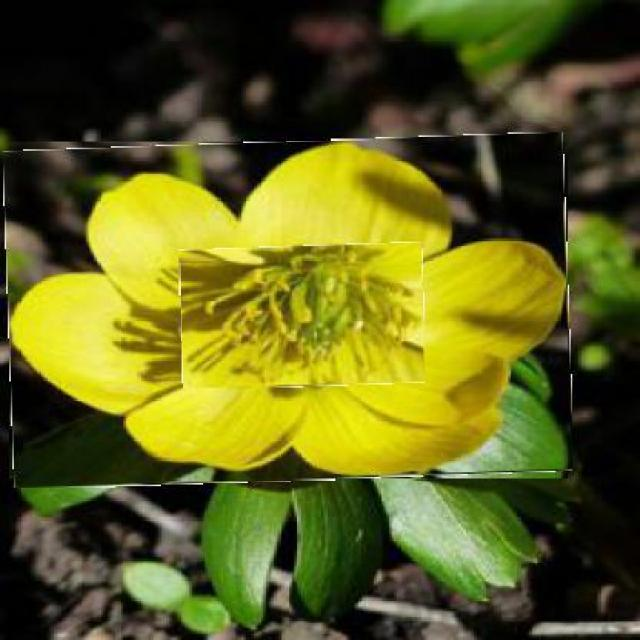Flower: (7, 137, 571, 485), (180, 244, 426, 388)
